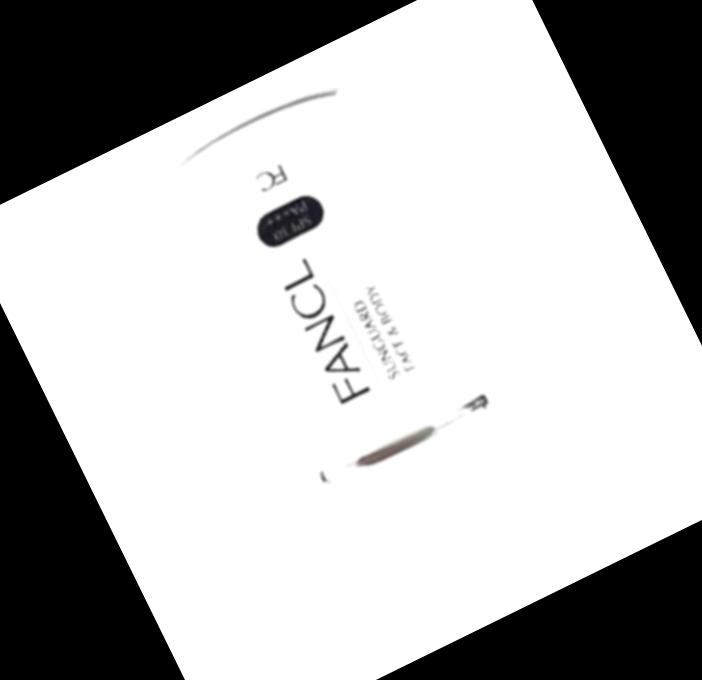cosmetic: (155, 76, 551, 595)
